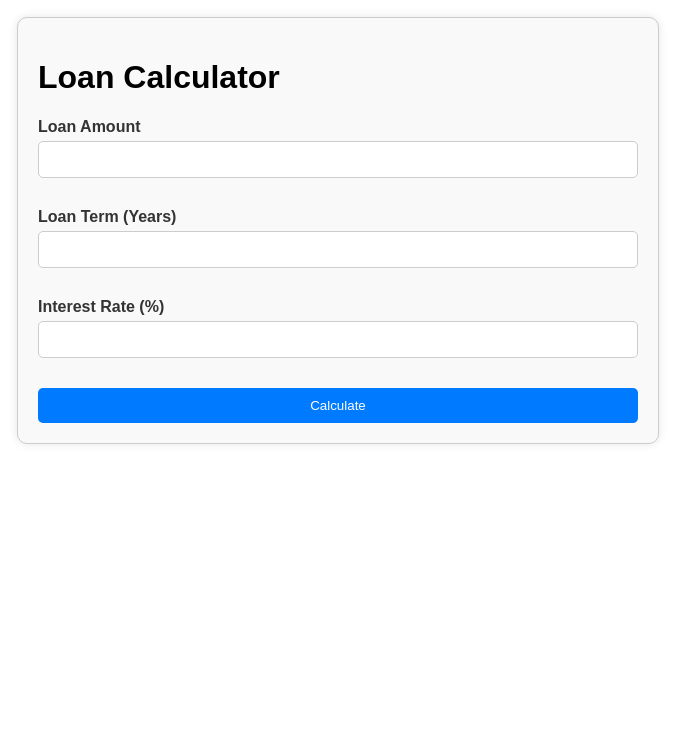
Test: App Component › calculates monthly repayment correctly
Type "5000" into the number field labelled "Loan Amount" at coordinates (338, 159), box [38,141,638,178]
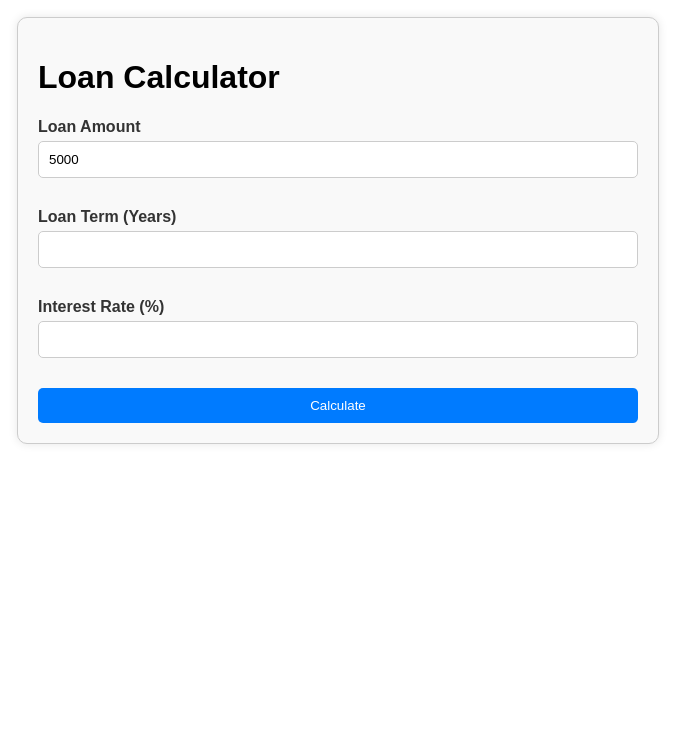
Type "5" into the number field labelled "Loan Term (Years)" at coordinates (338, 249), box [38,231,638,268]
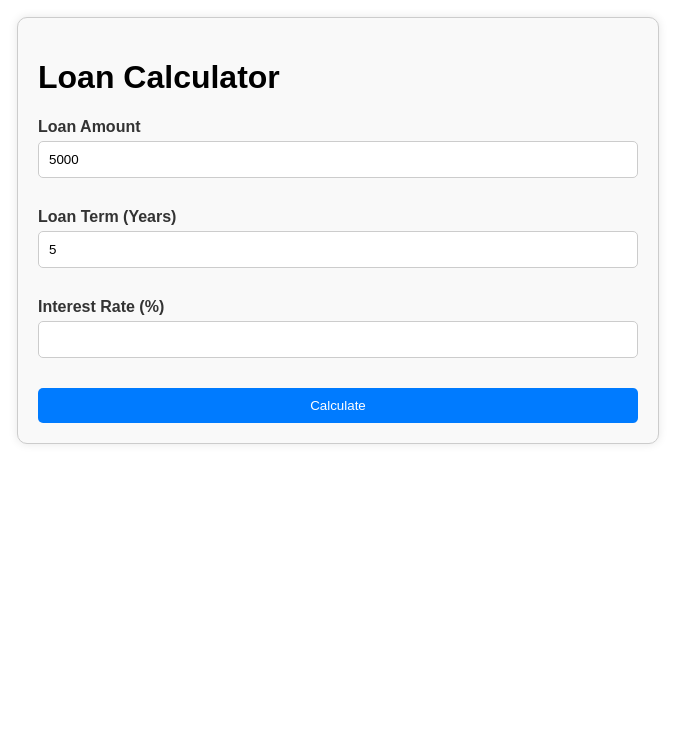
Type "5" into the number field labelled "Interest Rate (%)" at coordinates (338, 339), box [38,321,638,358]
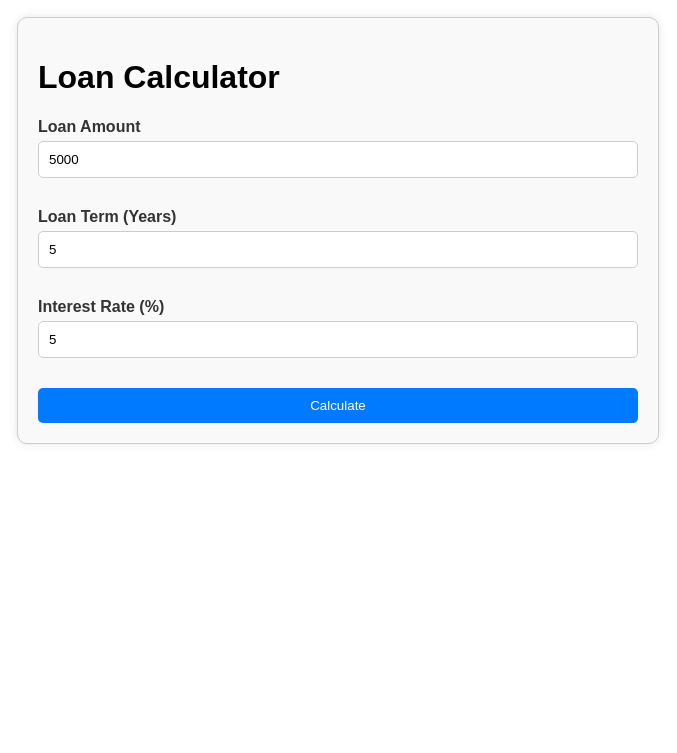
Click the button "Calculate" at coordinates (338, 405), box [38,388,638,423]
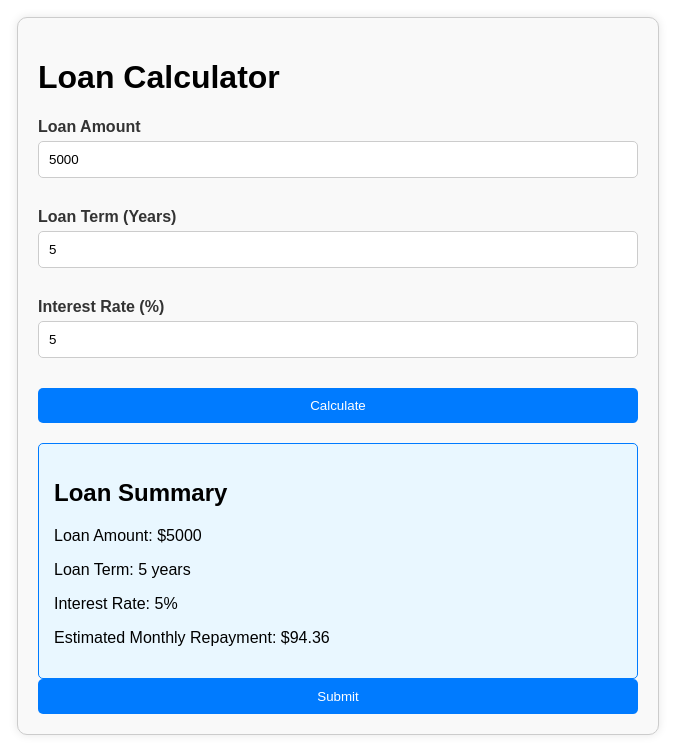
Expected: the text "Estimated Monthly Repayment: $94.36" is shown, [54,629,330,646]
